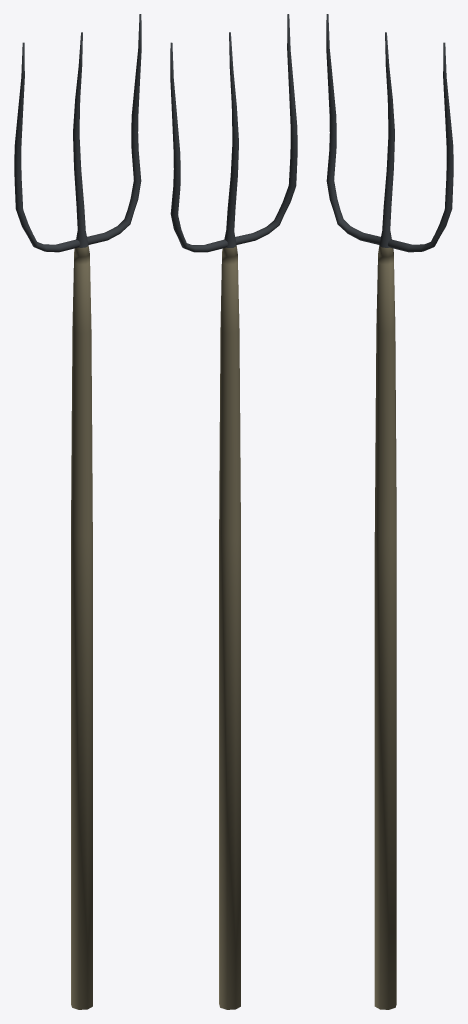
The model's file is Fork.fbx.
The picture shows the model from 3 angles, left to right: view 1: azimuth 30°, elevation 25°; view 2: azimuth 210°, elevation 25°; view 3: azimuth 330°, elevation 25°; orthographic projection.
Visible parts, largest first — view 1: Farm Fork; view 2: Farm Fork; view 3: Farm Fork.
Part boxes in pixels (box(x1,y1,x2,y2)): Farm Fork: box(14, 14, 141, 1009); Farm Fork: box(170, 14, 297, 1009); Farm Fork: box(326, 14, 453, 1009).
Size of the model in its own units: 46.61 by 349 by 8.62.
